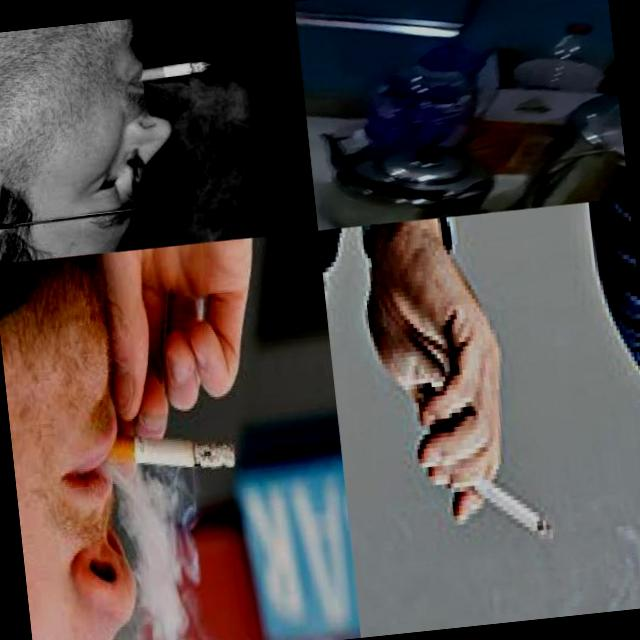smoke: (94, 422, 236, 482), (460, 458, 554, 547), (128, 59, 212, 84)
